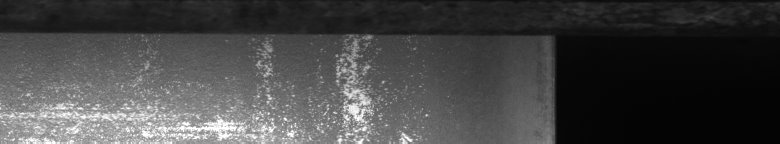kb: (6, 32, 430, 136)
